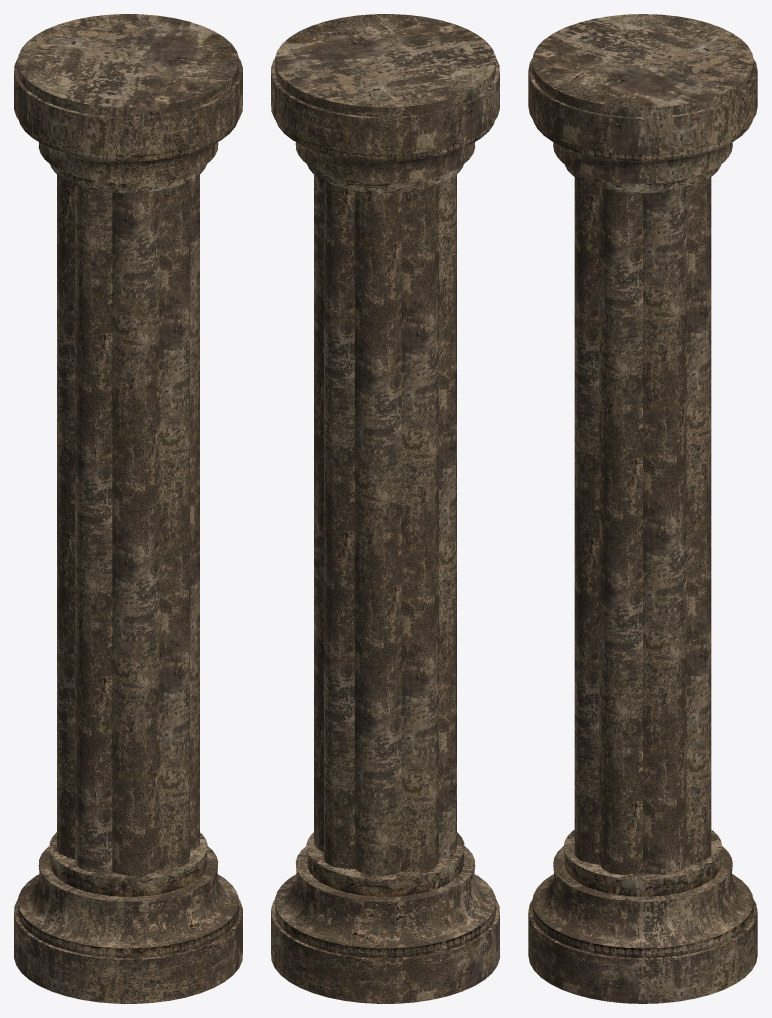
The model's file is materials_5_pillar_long_4.fbx.
The picture shows the model from 3 angles, left to right: view 1: azimuth 30°, elevation 25°; view 2: azimuth 150°, elevation 25°; view 3: azimuth 270°, elevation 25°; orthographic projection.
Visible parts, largest first — view 1: materials_5_pillar_long_4; view 2: materials_5_pillar_long_4; view 3: materials_5_pillar_long_4.
Part boxes in pixels (x1,y1,x2,y2): materials_5_pillar_long_4: (14, 14, 242, 1003); materials_5_pillar_long_4: (271, 14, 499, 1003); materials_5_pillar_long_4: (528, 14, 757, 1003).
Bounding box in the file's own units: 67.61 × 291 × 67.61.
